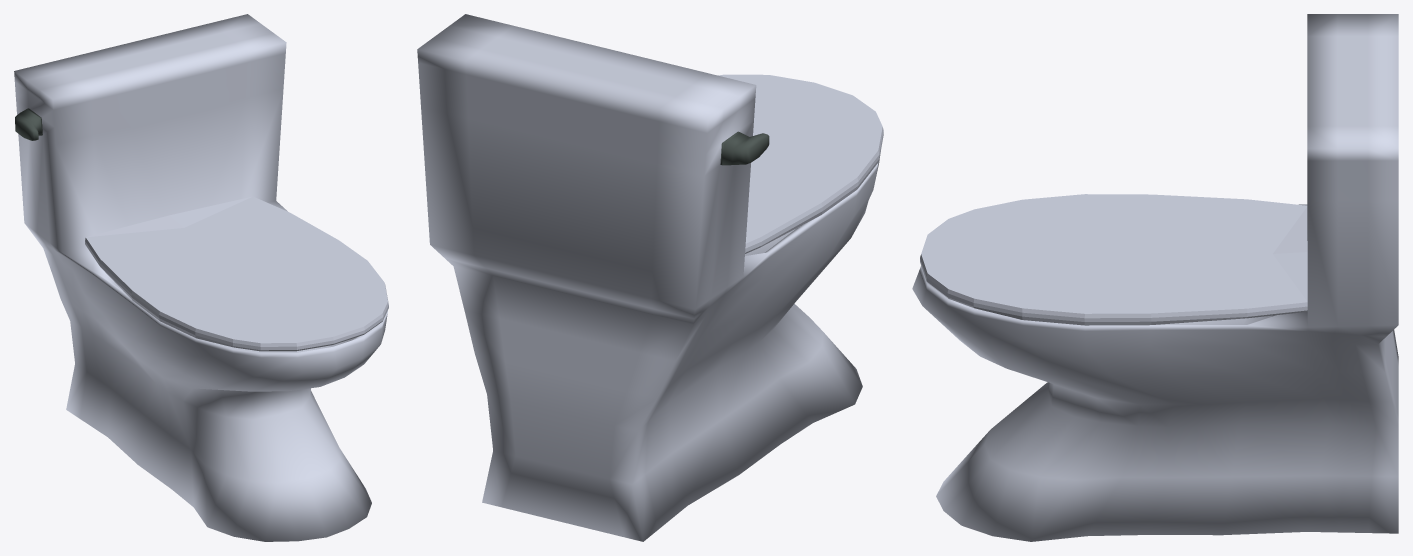
Rendered from Toilet.fbx.
3 renders of one model, left to right at view 1: azimuth 30°, elevation 25°; view 2: azimuth 150°, elevation 25°; view 3: azimuth 270°, elevation 25°, orthographic. The views are drawn at different scales.
Visible parts, largest first — view 1: Toilet, Lid; view 2: Toilet, Lid; view 3: Toilet, Lid.
Boxes of the visible parts, x1,y1,x2,y2 form: Toilet: (14,14,387,541); Lid: (85,196,388,351); Toilet: (417,14,880,541); Lid: (718,74,883,253); Toilet: (912,14,1398,541); Lid: (920,194,1307,325).
Size of the model in its own units: 52.97 by 71 by 75.43.
